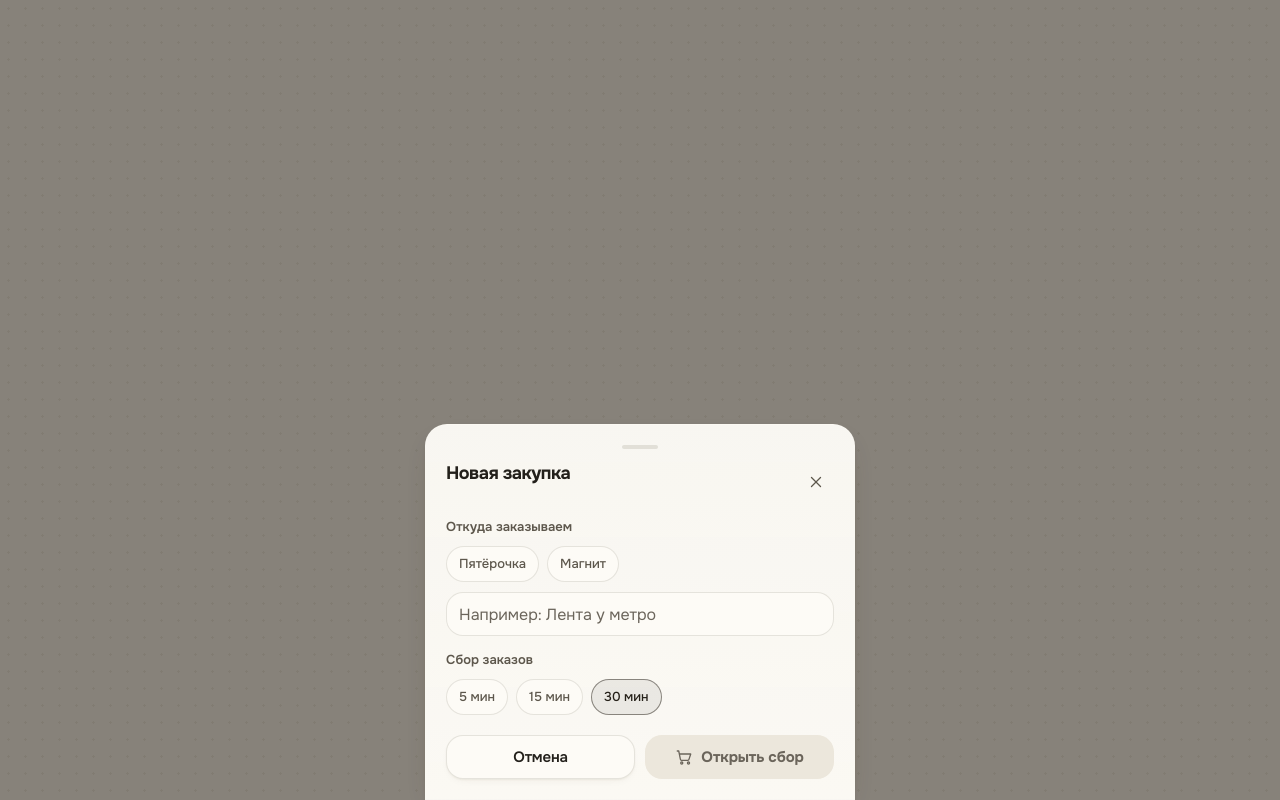
Test: CreateStoreRunSheet — реквизиты инициатора › без реквизитов предупреждает и открывает форму поверх, не теряя введённого
In the field labelled "Откуда заказываем": (640, 614) [446, 592, 834, 636], type "Лента"
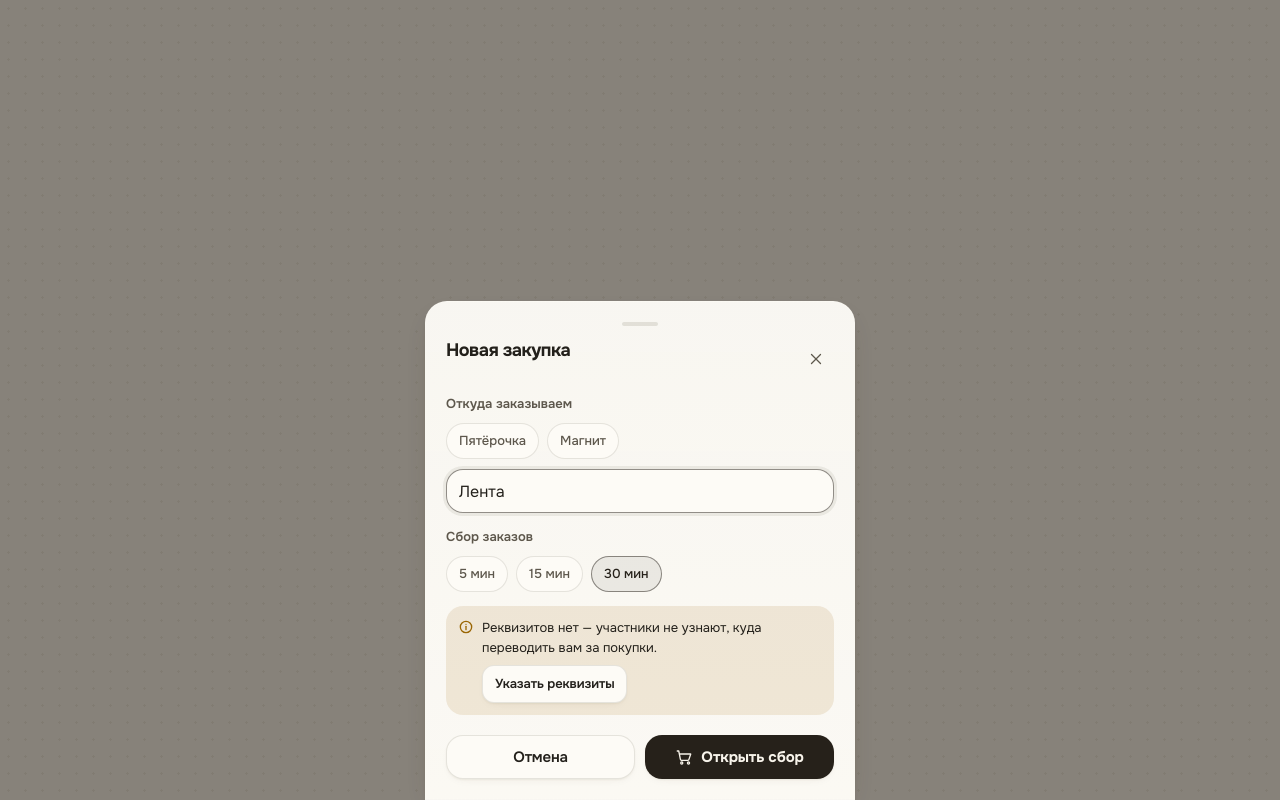
Expected: the text "Реквизитов нет" is shown, [482, 619, 762, 656]
Click the button "Указать реквизиты": (555, 684) [482, 665, 627, 703]
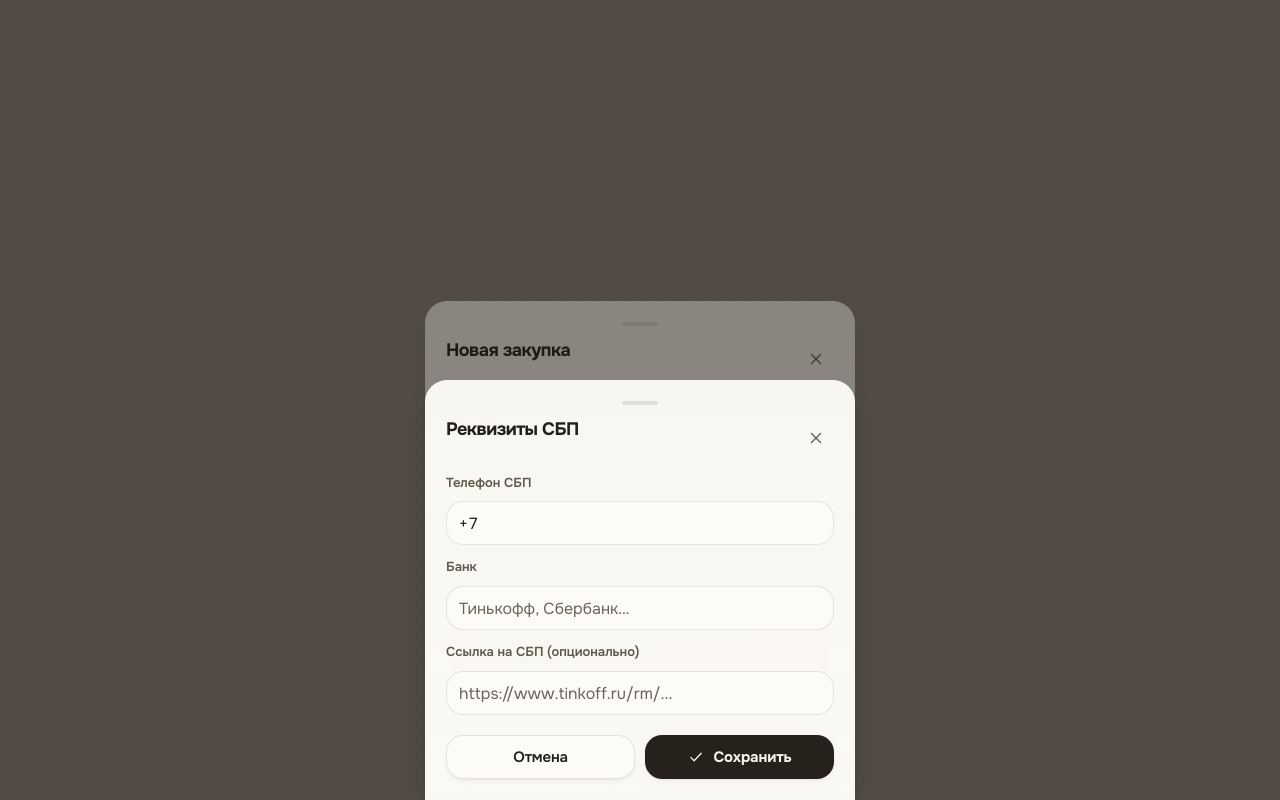
Expected: the dialog "Реквизиты СБП" is shown, [425, 380, 855, 799]
